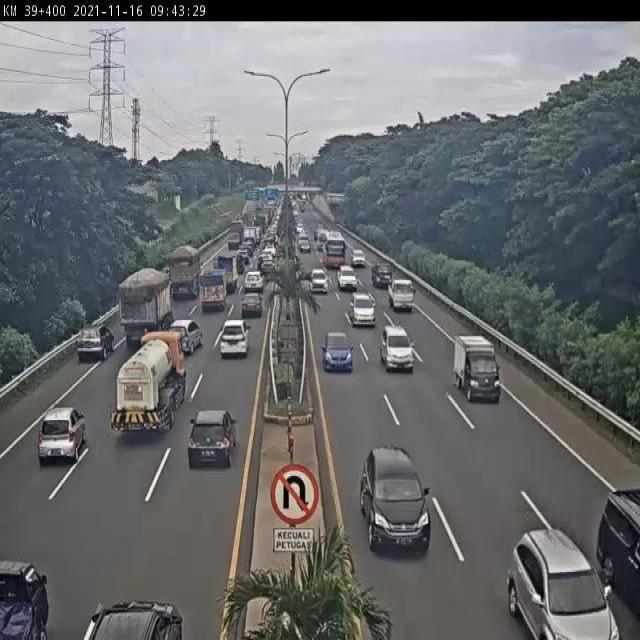big bus: (324, 236, 343, 261)
car: (508, 526, 621, 640), (361, 446, 430, 554), (592, 480, 640, 623), (96, 592, 180, 640), (2, 556, 50, 637), (37, 403, 83, 468), (188, 410, 236, 470), (221, 318, 250, 370), (73, 326, 106, 370), (168, 316, 197, 356), (385, 329, 418, 364), (327, 331, 348, 376), (352, 292, 374, 327), (389, 279, 413, 309), (240, 293, 261, 316), (309, 264, 327, 289), (369, 261, 387, 283), (246, 270, 263, 290), (336, 264, 352, 284), (352, 250, 363, 266)
small truck: (455, 334, 504, 394), (201, 268, 228, 313), (217, 253, 238, 287)
truck-m-: (109, 329, 189, 443), (119, 264, 176, 355), (171, 241, 203, 300)
